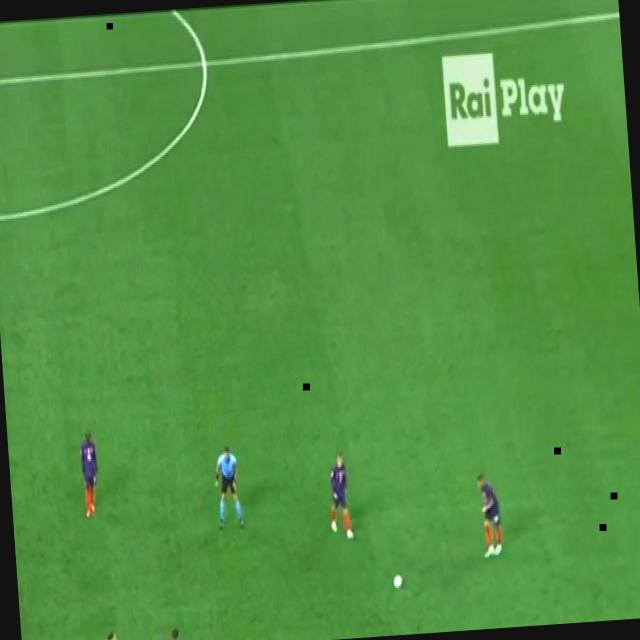ball: (392, 572, 404, 594)
player-white: (323, 448, 356, 550), (212, 442, 246, 538), (472, 469, 506, 565), (76, 422, 102, 522), (155, 624, 185, 640), (98, 623, 126, 640), (254, 632, 276, 640), (272, 635, 293, 640)
